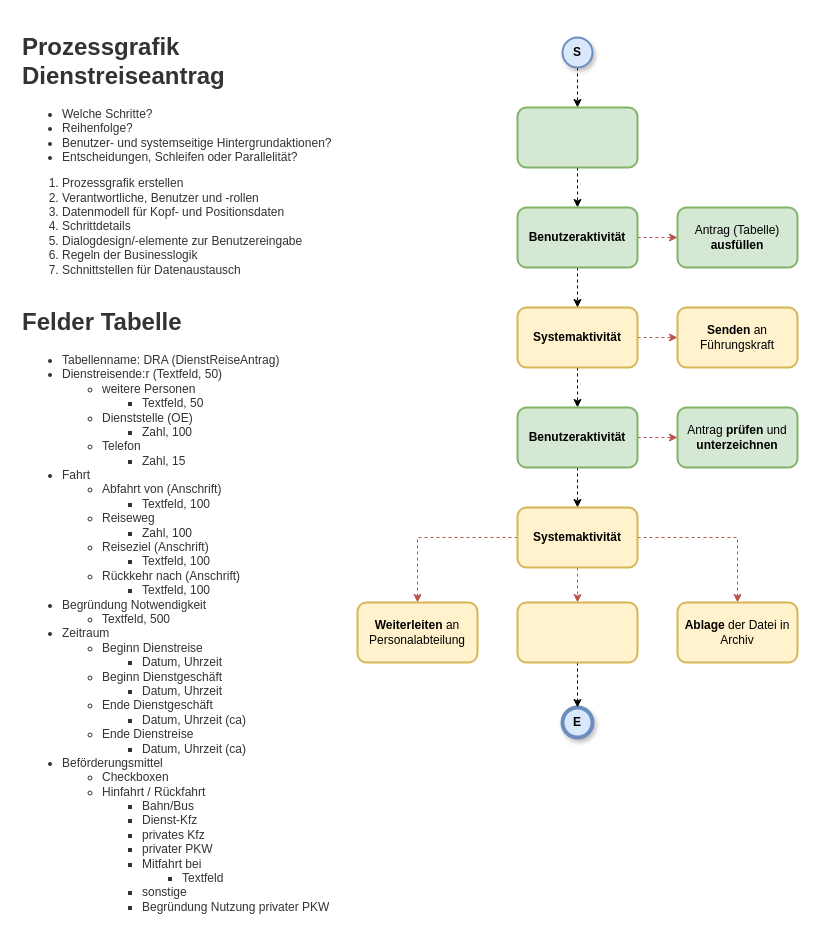
This 815x944 diagram has some shape labels left out. Here are the shapes that lost their labels. From the top down, the centre of each, then its label:
the point at 577,137: Startschritt
the point at 577,632: Zu-/Absage an Antragstellenden
